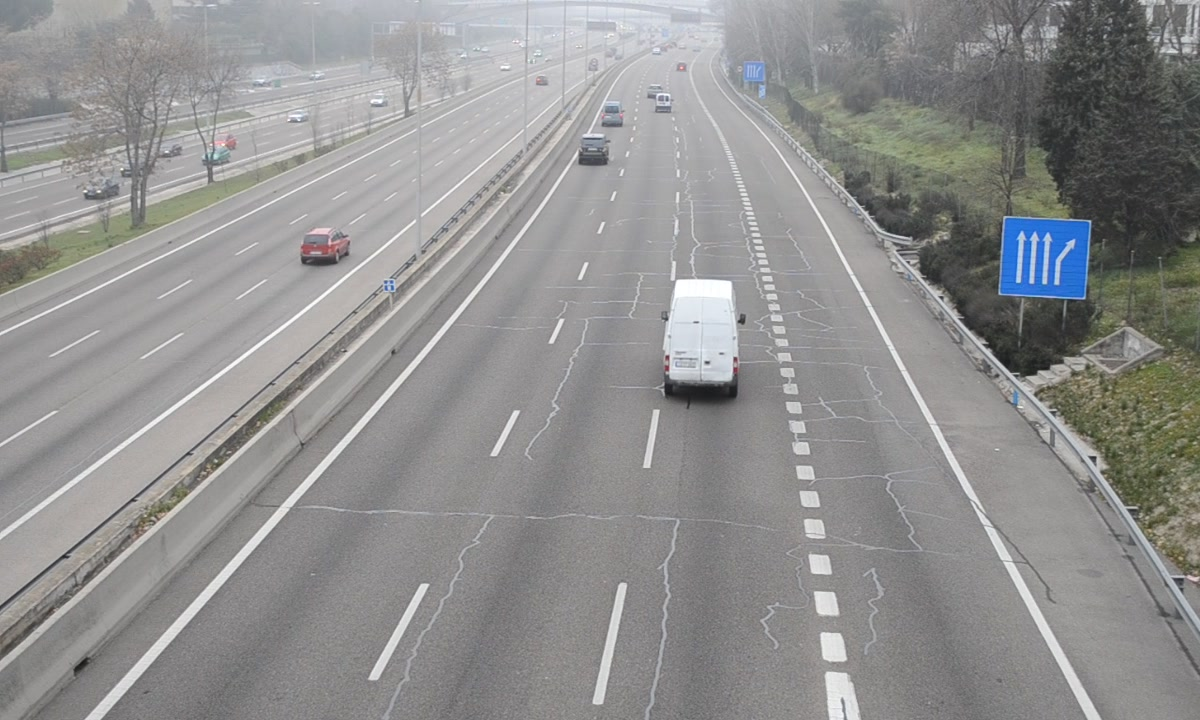car: (578, 134, 609, 165)
van: (663, 278, 741, 396), (601, 98, 623, 127)
